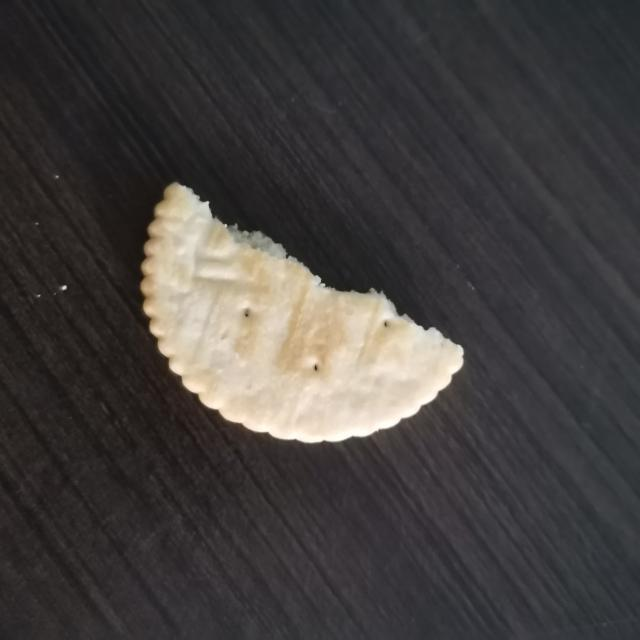Broken: (139, 180, 465, 444)
